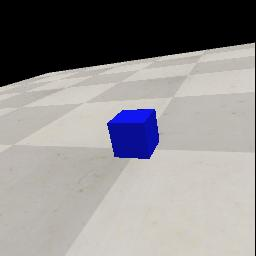box: (107, 109, 159, 159)
